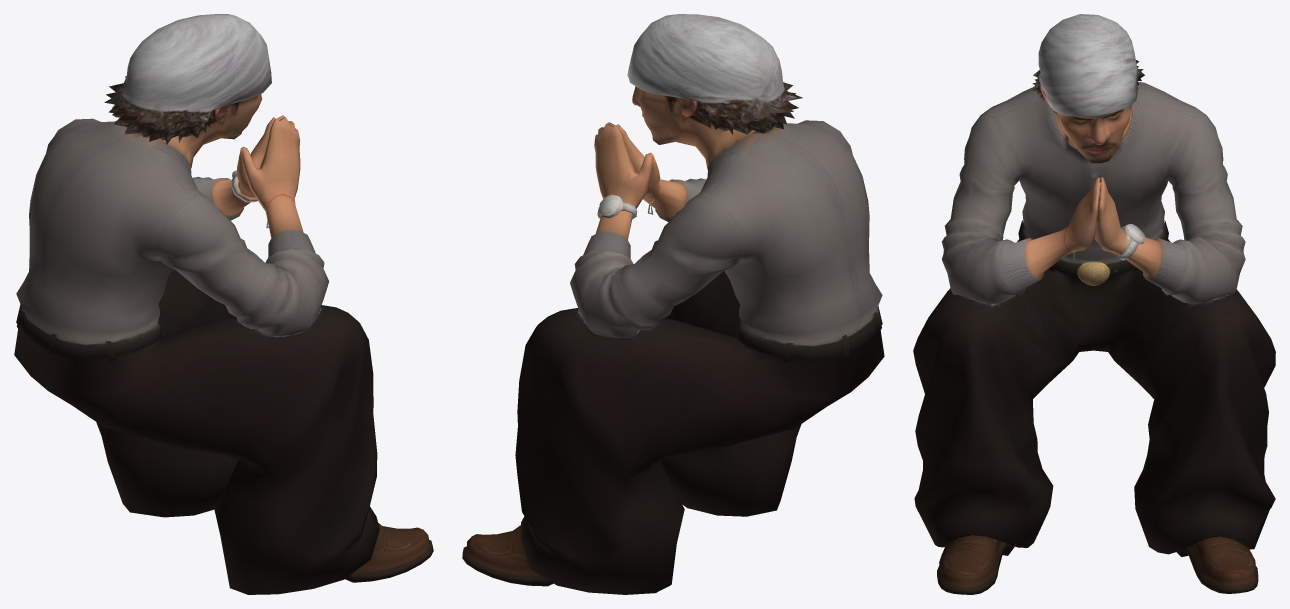
Rendered from rainn-orando-final.glb.
The picture shows the model from 3 angles, left to right: view 1: azimuth 30°, elevation 25°; view 2: azimuth 150°, elevation 25°; view 3: azimuth 270°, elevation 25°; orthographic projection. The views are drawn at different scales.
Parts seen in each view (by area): view 1: tripo_node_57b18cf3-9f8a-40a3-bf3e-303d9d7fe3ee; view 2: tripo_node_57b18cf3-9f8a-40a3-bf3e-303d9d7fe3ee; view 3: tripo_node_57b18cf3-9f8a-40a3-bf3e-303d9d7fe3ee.
Boxes of the visible parts, bbox=[...] form: tripo_node_57b18cf3-9f8a-40a3-bf3e-303d9d7fe3ee: bbox=[14, 14, 433, 594]; tripo_node_57b18cf3-9f8a-40a3-bf3e-303d9d7fe3ee: bbox=[462, 14, 884, 594]; tripo_node_57b18cf3-9f8a-40a3-bf3e-303d9d7fe3ee: bbox=[913, 14, 1275, 594].
Bounding box in the file's own units: 0.6611 × 0.9995 × 0.6567.
Materials: 1 (1 with a texture image).
